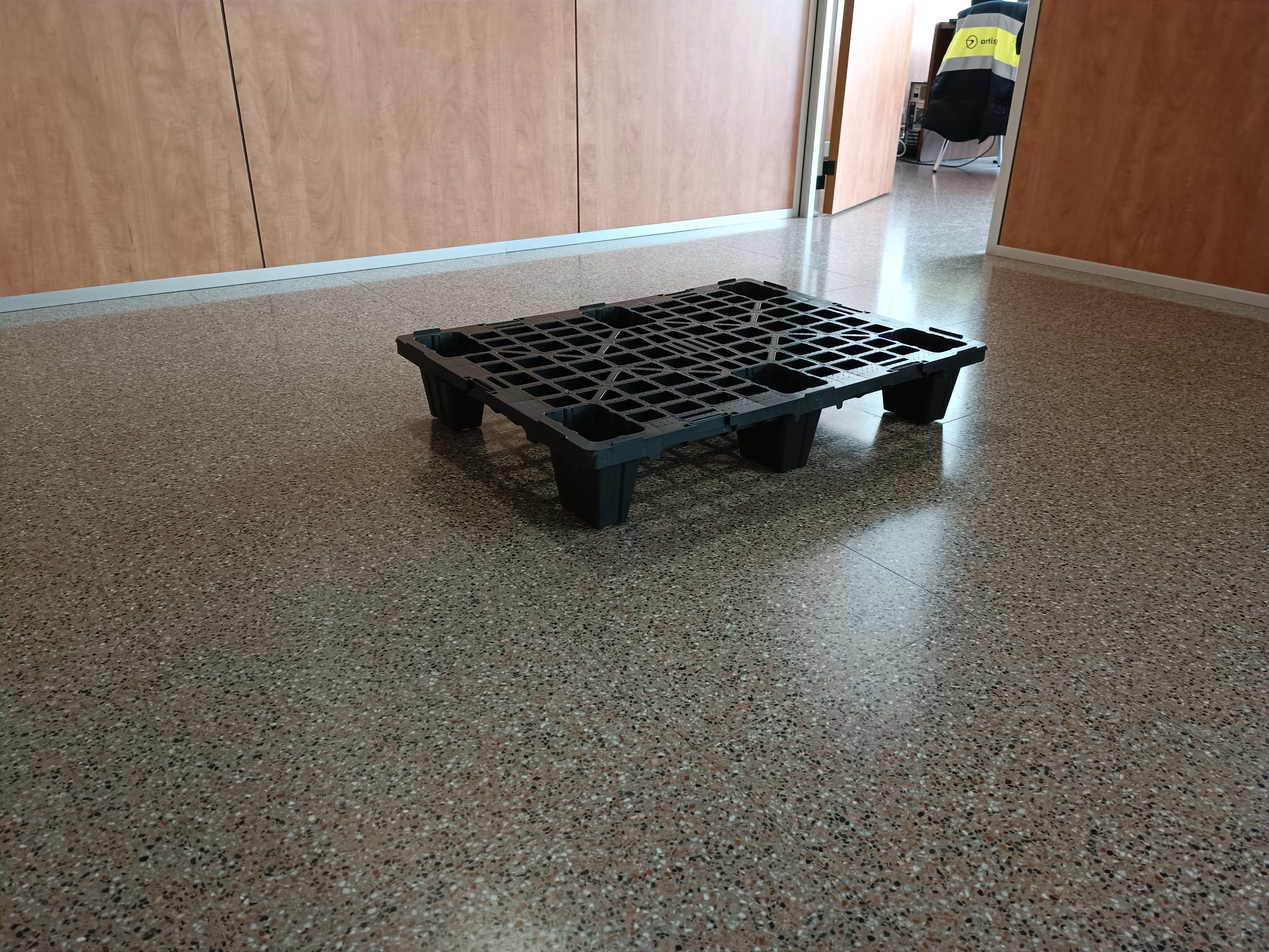block: (543, 428, 639, 533), (735, 396, 827, 476), (411, 364, 477, 434), (886, 379, 963, 423)
front: (593, 341, 981, 536)
